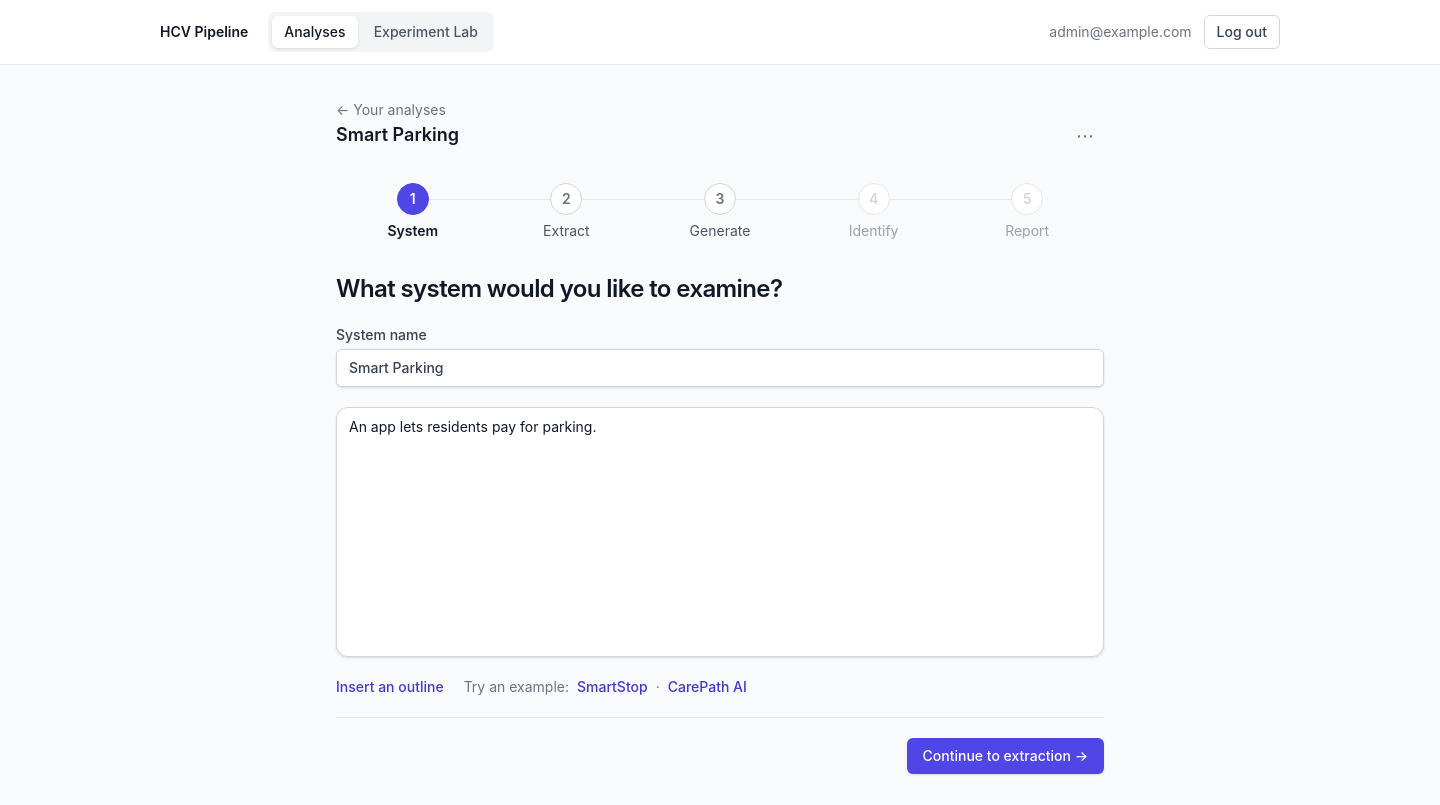
Scenario: System step › shows a failed save, keeps the text and stays on the step
Replace the text in the text box labelled "What system would you like to examine?" with "Precious text." at {"x": 720, "y": 532}, box [336,407,1104,657]
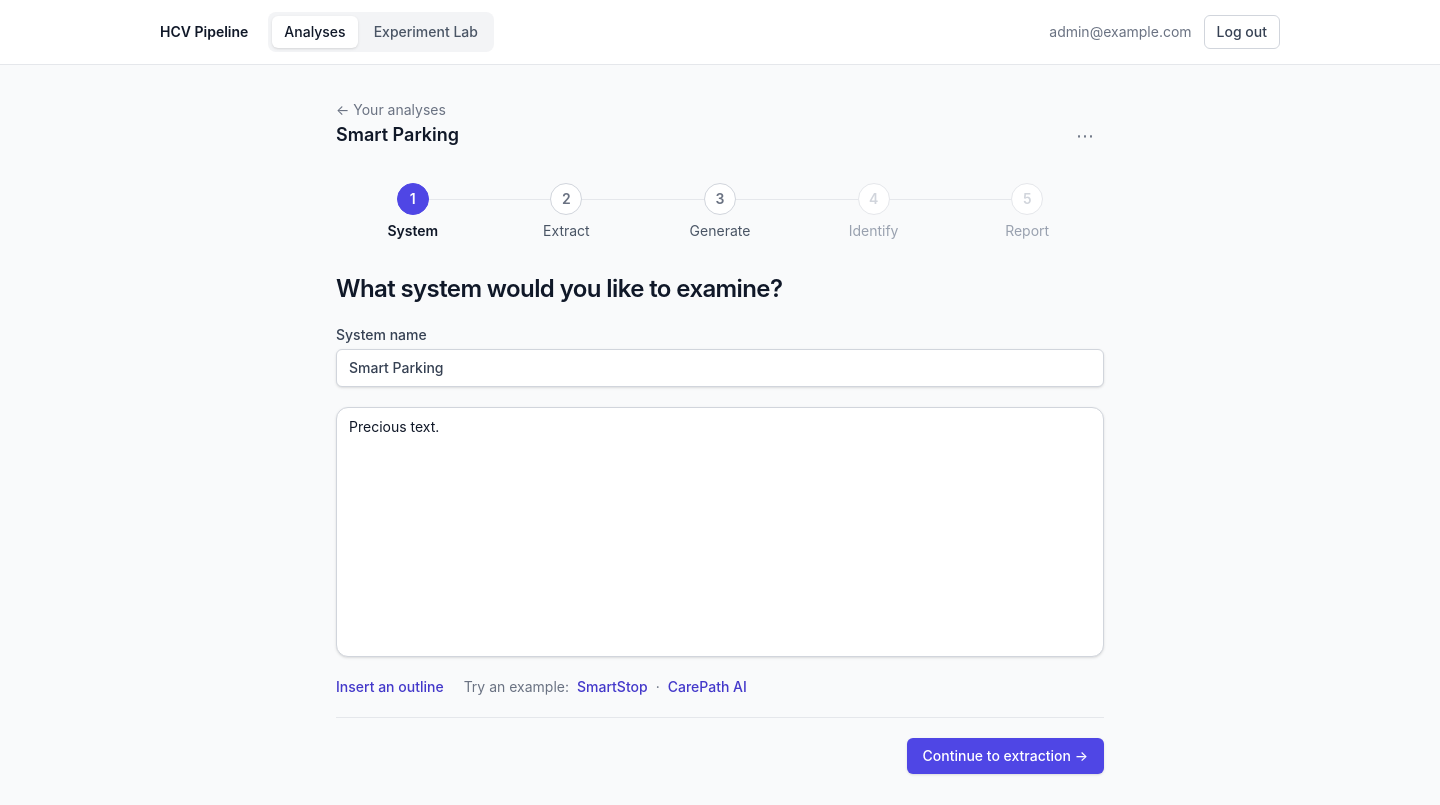
Click the button "Continue to extraction →".
click(1005, 756)  # box [907,738,1104,774]
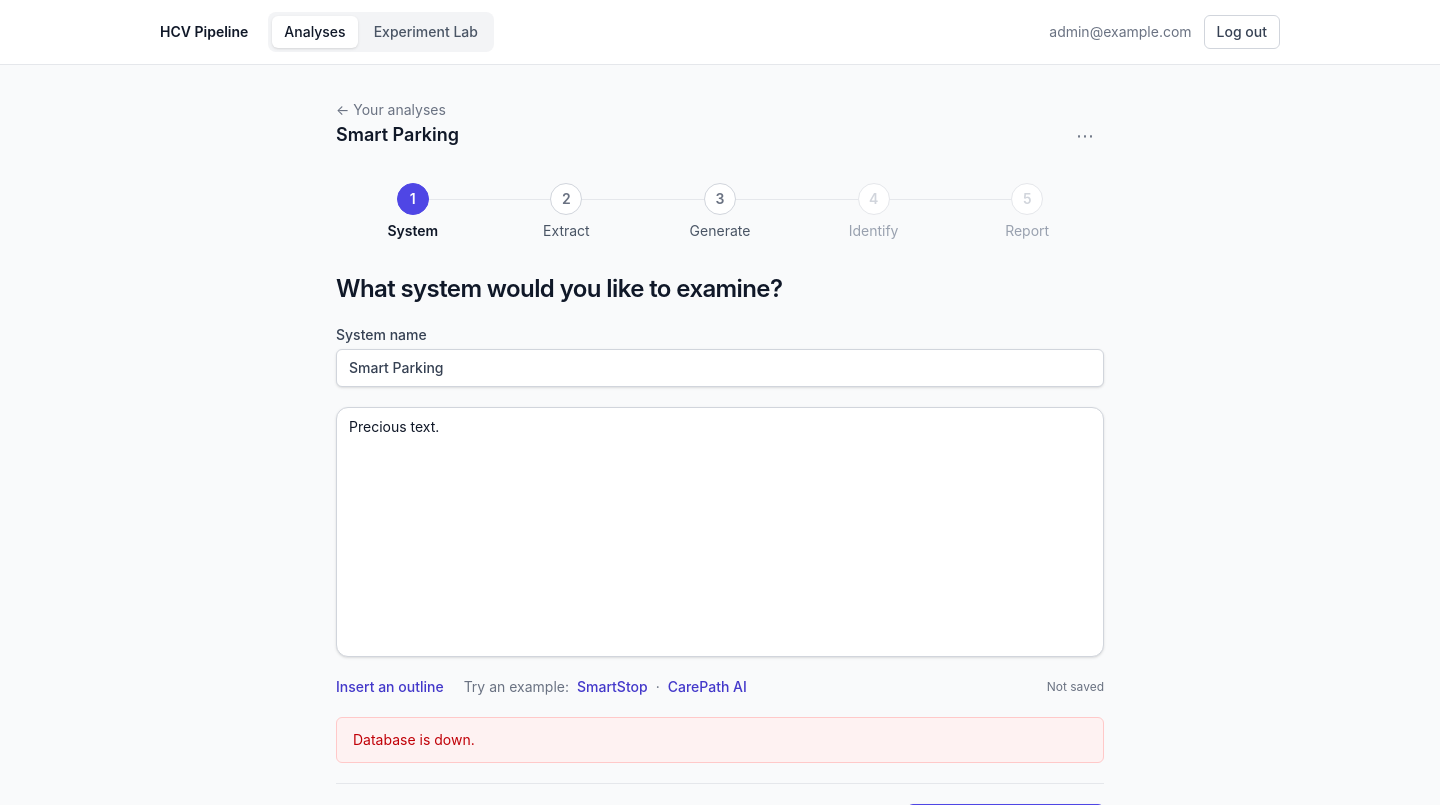
Expected: the message reads "Database is down.", [353,731,475,748]
